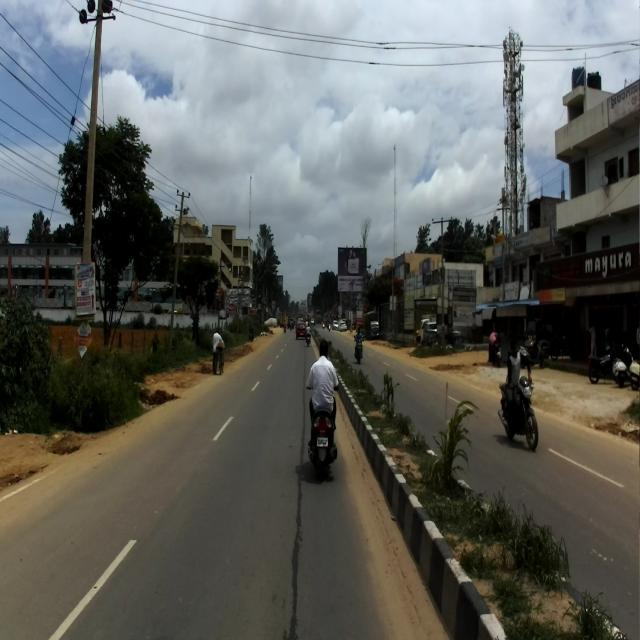motorcycle_TVS: (496, 375, 540, 452)
scooter: (305, 381, 341, 478)
